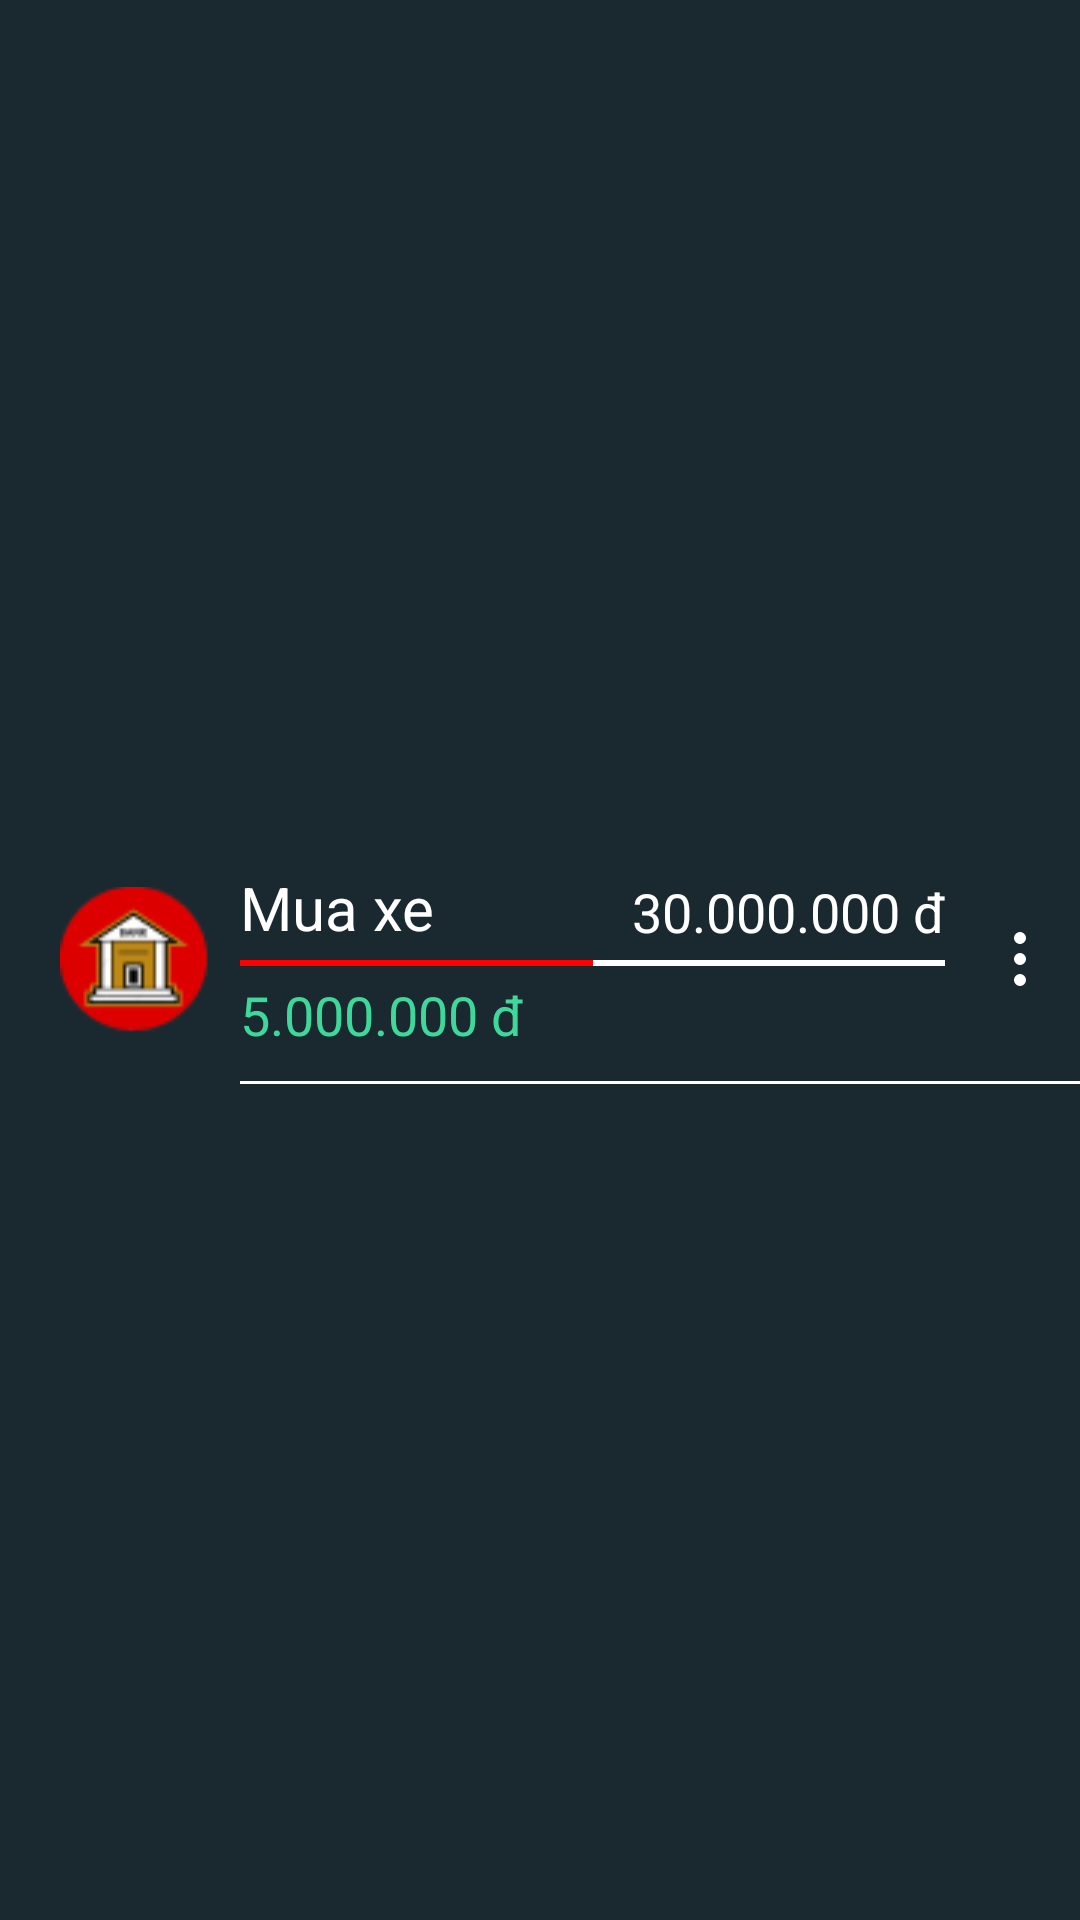

Screen size 1080px×1920px. Icon name, then its center in pixels as point (x, y):
iconbank: point (134, 959)
tabler dots vertical: point (1020, 959)
